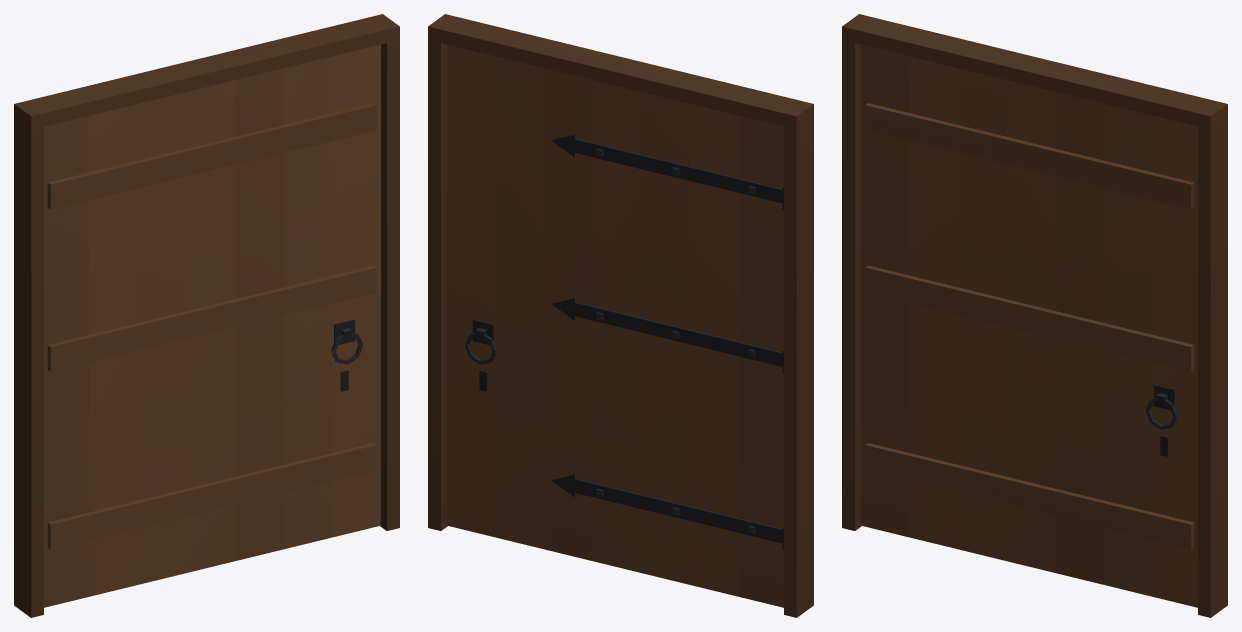
The model's file is door.oak.oak.glb.
3 views of the same model, side by side, from view 1: azimuth 30°, elevation 25°; view 2: azimuth 150°, elevation 25°; view 3: azimuth 330°, elevation 25° (orthographic).
Visible parts, largest first — view 1: door_oak_oak; view 2: door_oak_oak; view 3: door_oak_oak.
Boxes of the visible parts, x1,y1,x2,y2 form: door_oak_oak: (14,14,399,617); door_oak_oak: (428,14,813,617); door_oak_oak: (842,14,1227,617).
Size of what is drawn, in the model's own units: 2 by 2.6 by 0.16.
